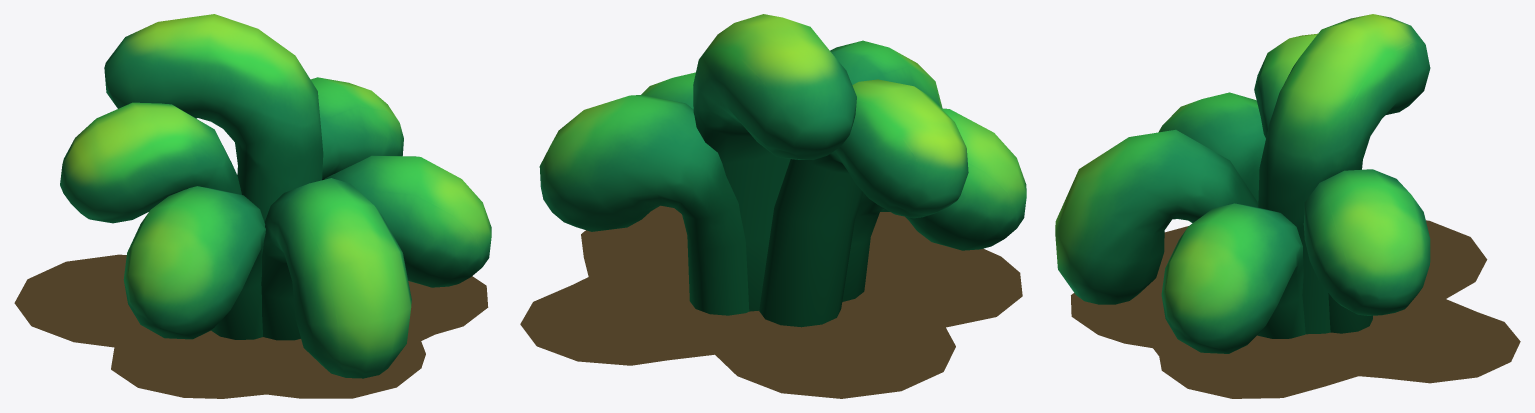
File: Grass.fbx
The picture shows the model from 3 angles, left to right: view 1: azimuth 30°, elevation 25°; view 2: azimuth 150°, elevation 25°; view 3: azimuth 270°, elevation 25°; orthographic projection. The views are drawn at different scales.
Parts seen in each view (by area): view 1: Grass1_body, Grass_SDW; view 2: Grass1_body, Grass_SDW; view 3: Grass1_body, Grass_SDW.
Part boxes in pixels (box(x1,y1,x2,y2)): Grass1_body: box(60, 14, 491, 378); Grass_SDW: box(14, 254, 488, 398); Grass1_body: box(539, 14, 1026, 327); Grass_SDW: box(520, 205, 1022, 398); Grass1_body: box(1055, 14, 1430, 353); Grass_SDW: box(1071, 220, 1520, 398).
Size of the model in its own units: 85.88 by 58.91 by 91.99.
2 materials, 1 textured.
